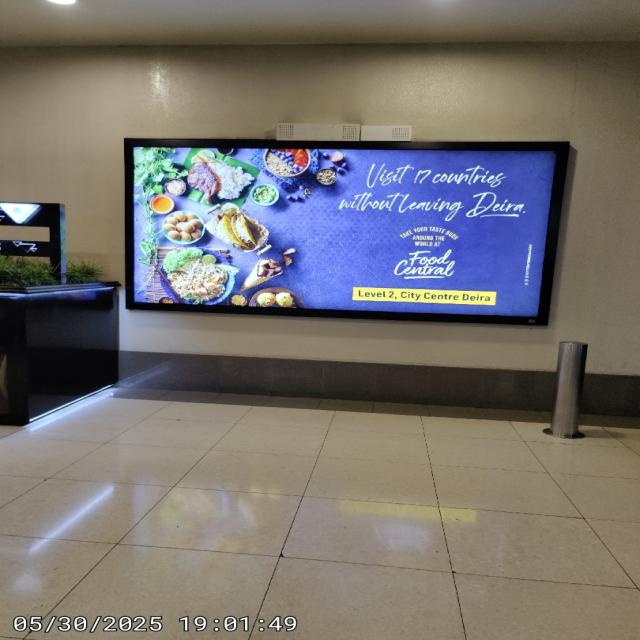digital-board-medium: (123, 138, 568, 324)
